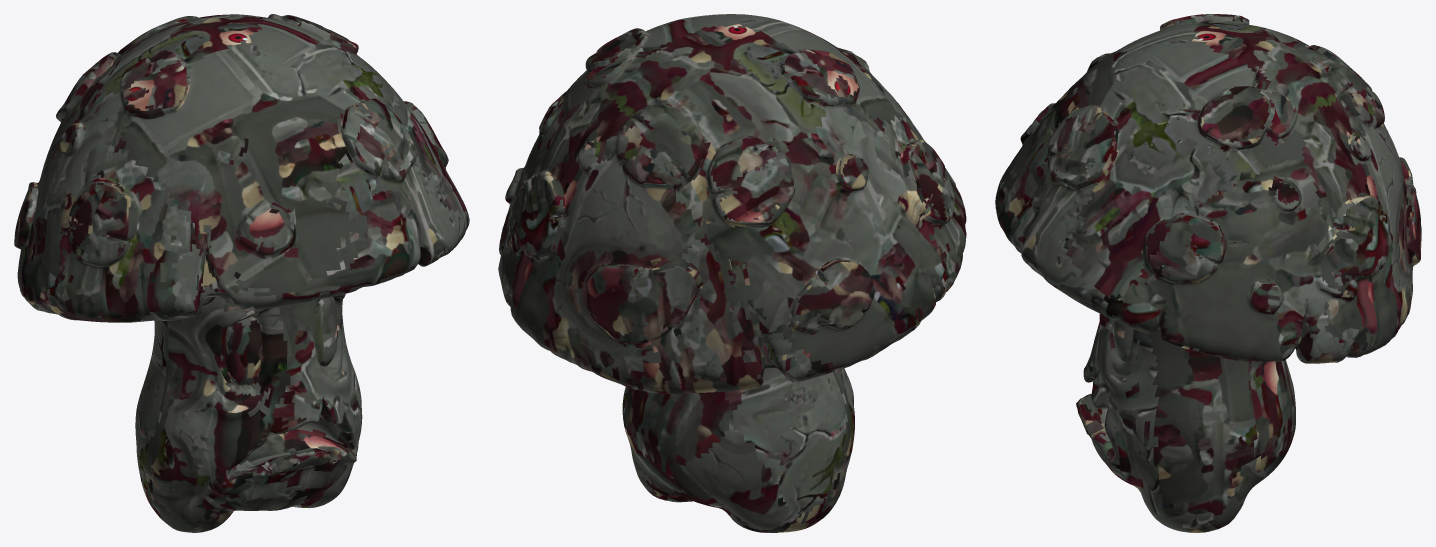
Rendered from Mini_Mushroom.fbx.
3 views of the same model, side by side, from view 1: azimuth 30°, elevation 25°; view 2: azimuth 150°, elevation 25°; view 3: azimuth 270°, elevation 25° (orthographic). The views are drawn at different scales.
Visible parts, largest first — view 1: tripo_node_0d10698e; view 2: tripo_node_0d10698e; view 3: tripo_node_0d10698e.
Boxes of the visible parts, x1,y1,x2,y2 form: tripo_node_0d10698e: [14, 14, 469, 532]; tripo_node_0d10698e: [498, 14, 966, 532]; tripo_node_0d10698e: [995, 14, 1421, 532].
Bounding box in the file's own units: 0.8792 × 0.9808 × 0.8265.
